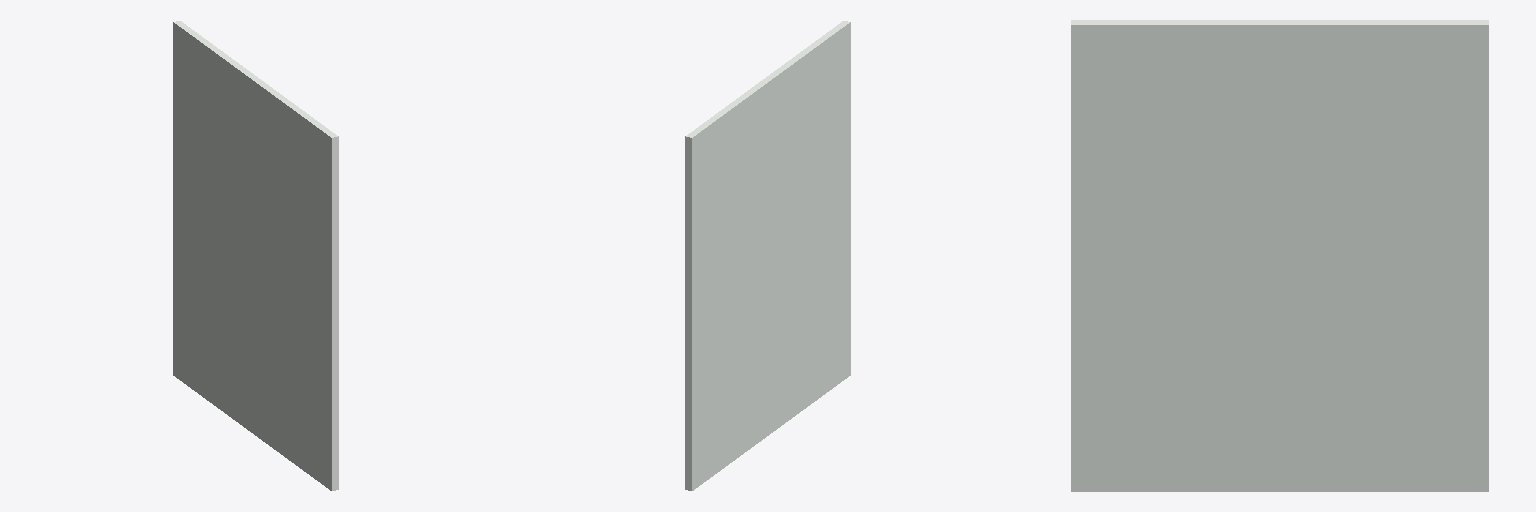
URDF robot description (parttoolgen_marker_trace_left_side_wide_vertical_whiteboard):
<?xml version="1.0"?>
<robot name="parttoolgen_marker_trace_left_side_wide_vertical_whiteboard">
  <link name="whiteboard">
    <visual>
      <material name="whiteboard_surface">
        <color rgba="0.96 0.98 0.96 1.0"/>
      </material>
      <origin xyz="0 0 0"/>
      <geometry>
        <box size="0.020 0.820 1.010"/>
      </geometry>
    </visual>
    <collision>
      <origin xyz="0 0 0"/>
      <geometry>
        <box size="0.020 0.820 1.010"/>
      </geometry>
    </collision>
    <inertial>
      <mass value="1.00"/>
      <inertia ixx="0.170675" ixy="0.0" ixz="0.0" iyy="0.085034" iyz="0.0" izz="0.056367"/>
    </inertial>
  </link>
</robot>

--- Facts derived from the render (not from the file) ---
3 views of the same robot in one strip: view 1: azimuth 30°, elevation 25°; view 2: azimuth 150°, elevation 25°; view 3: azimuth 270°, elevation 25° (orthographic).
Model parttoolgen_marker_trace_left_side_wide_vertical_whiteboard with 1 links and 0 joints (none), rooted at whiteboard, posed every joint at zero.
Visible links, largest first — view 1: whiteboard; view 2: whiteboard; view 3: whiteboard.
Boxes of the visible links, <box> form: whiteboard: <box>173,21,338,490</box>; whiteboard: <box>685,21,850,490</box>; whiteboard: <box>1071,20,1488,491</box>.
Size in the robot's own frame: 0.02 by 0.82 by 1.01 metres.
Geometry: primitives only (box / cylinder / sphere), no mesh files.
